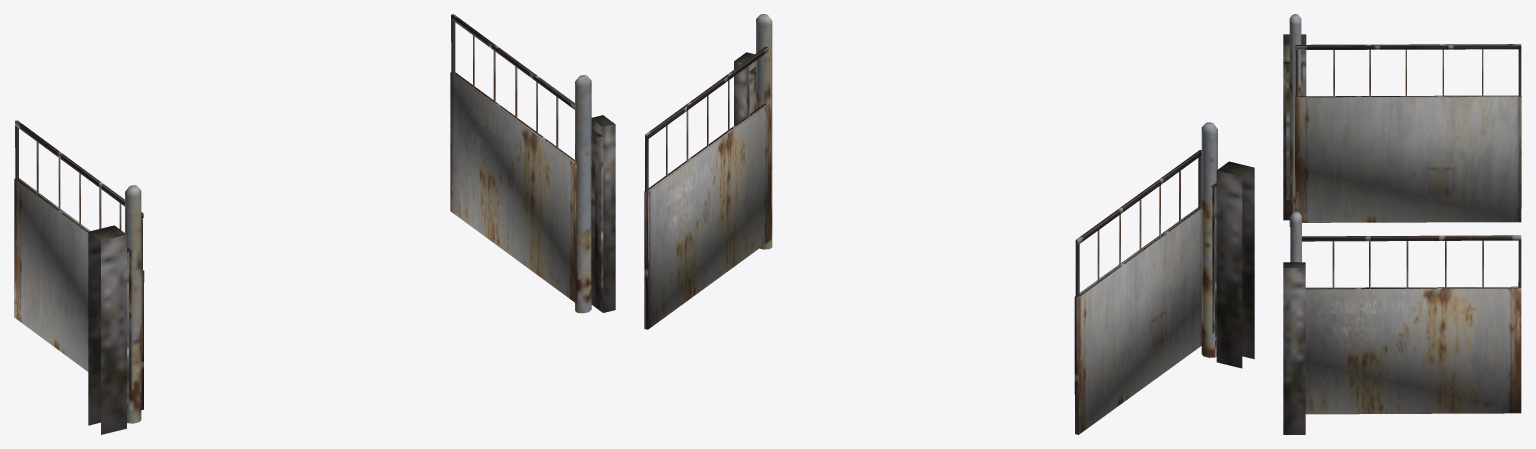
The model's file is door_mtl_3.obj.
3 renders of one model, left to right at view 1: azimuth 30°, elevation 25°; view 2: azimuth 150°, elevation 25°; view 3: azimuth 270°, elevation 25°, orthographic. The views are drawn at different scales.
Parts seen in each view (by area): view 1: 0.007, 0.014, 0, 0.002, 0.001; view 2: 0.014, 0.007, 0, 0.002, 0.001; view 3: 0.014, 0.007, 0.001, 0.002, 0.
Part boxes in pixels (x1,y1,x2,y2): 0.007: (450, 14, 576, 303); 0.014: (14, 120, 144, 410); 0: (88, 225, 132, 434); 0.002: (125, 75, 591, 423); 0.001: (591, 115, 615, 312); 0.014: (1074, 150, 1201, 434); 0.007: (644, 46, 771, 329); 0: (1211, 161, 1254, 368); 0.002: (756, 14, 1217, 357); 0.001: (734, 52, 756, 125); 0.014: (1295, 44, 1521, 222); 0.007: (1302, 235, 1521, 414); 0.001: (1283, 262, 1305, 434); 0.002: (1289, 14, 1301, 262); 0: (1283, 34, 1306, 220).
Bounding box in the file's own units: 6.15 × 2.67 × 2.74.
